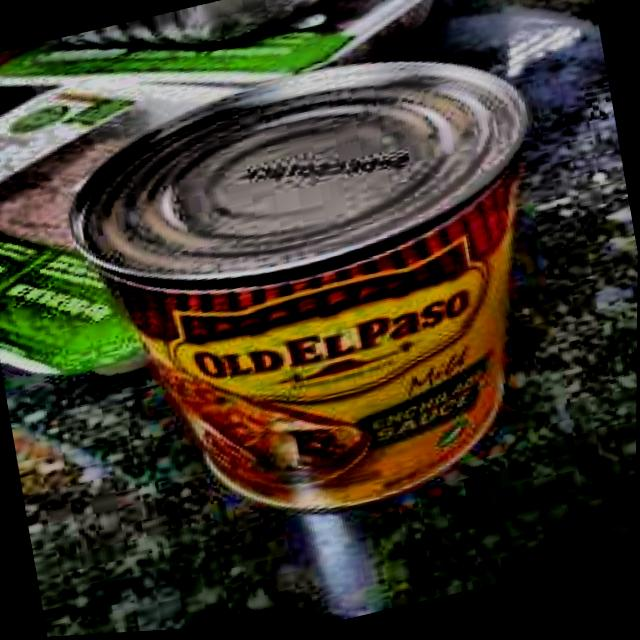Cans: (47, 8, 572, 580)
